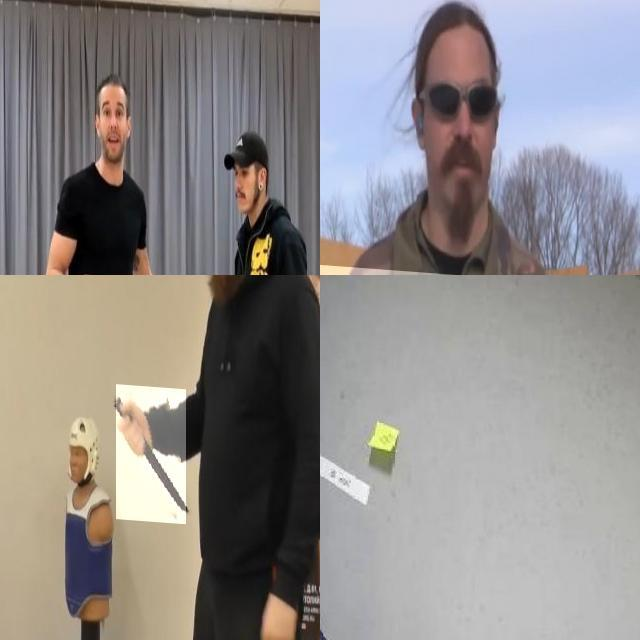-: (116, 381, 186, 520)
